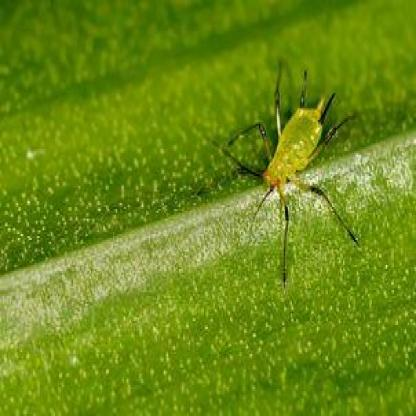aphid: (234, 56, 351, 255)
